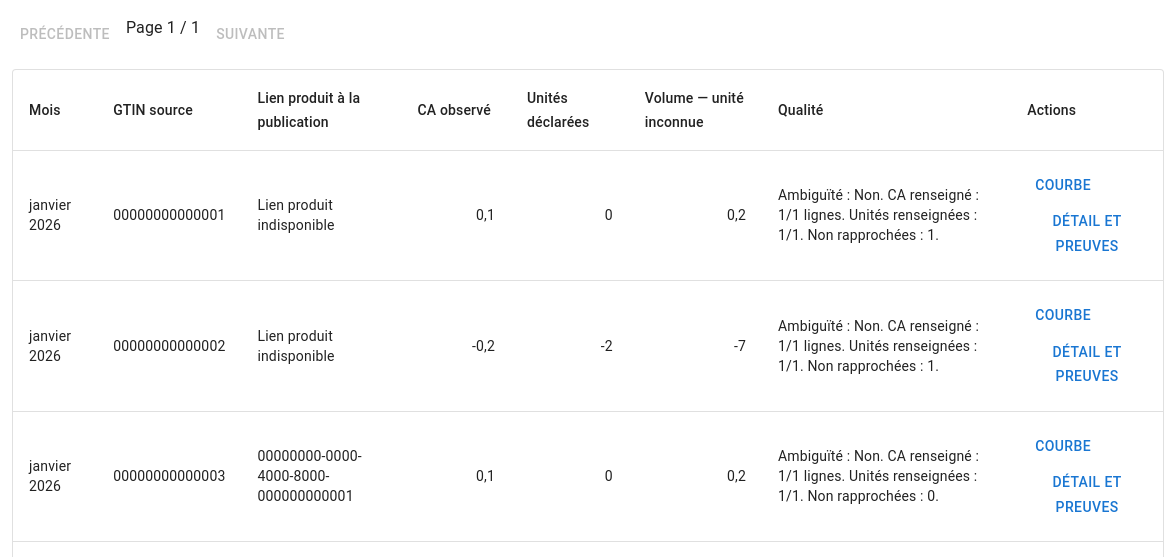
Scenario: rejects a live observation whose identity or grain no longer matches
(page scrolled)
Click the button with aria-label "Détail GTIN 00000000000001, 2026-01" at (1087, 234), box [1027, 203, 1147, 264]
(page scrolled)
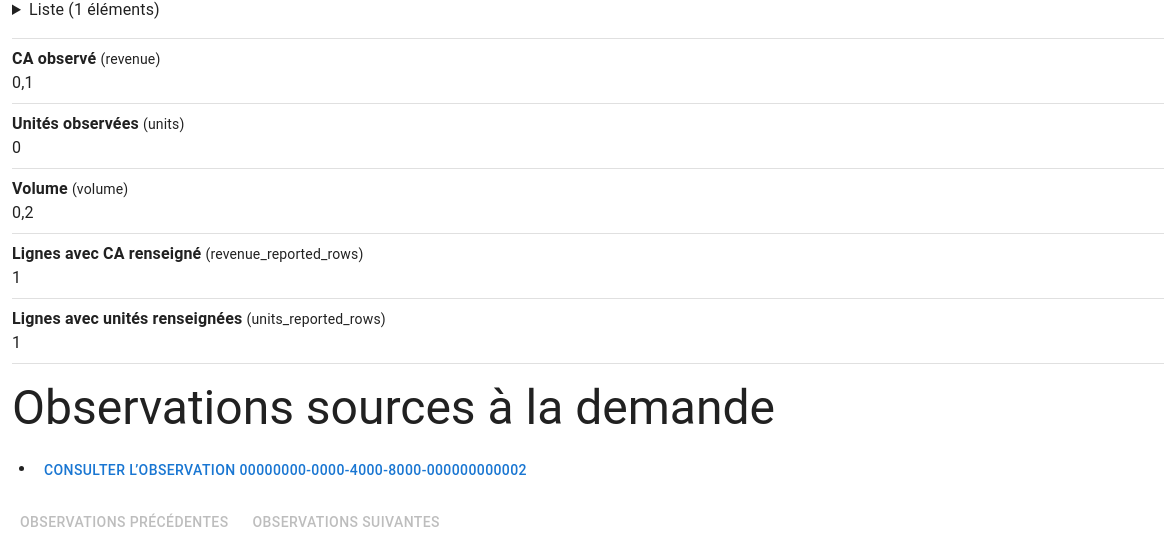
Click the button "Consulter l’observation 00000000-0000-4000-8000-000000000002" at (286, 470), box [36, 452, 535, 488]
(page scrolled)
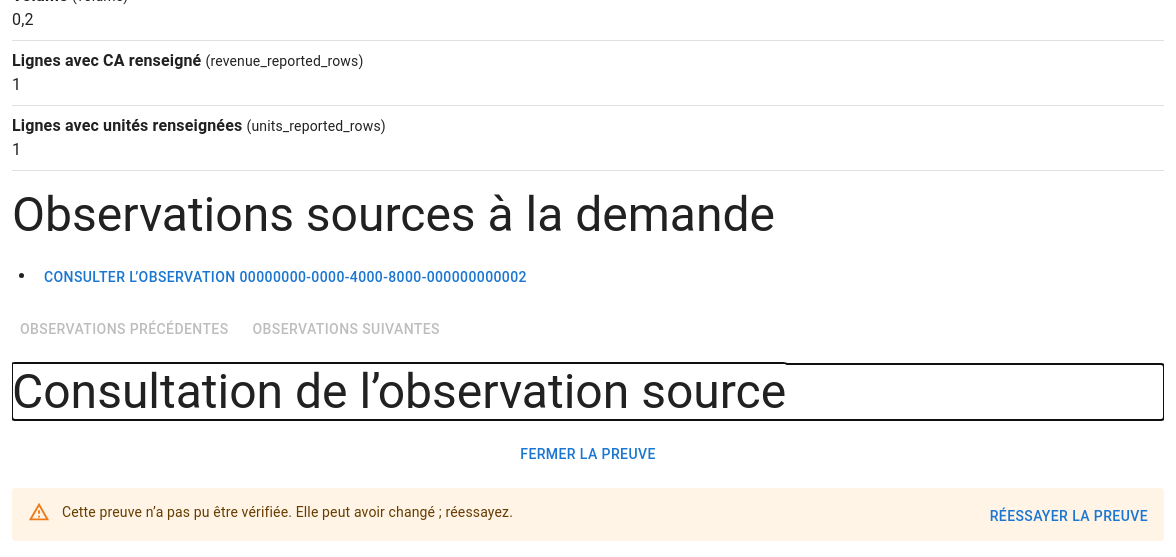
Expected: the text "Cette preuve n’a pas pu être vérifiée" is shown, [62, 504, 513, 520]
